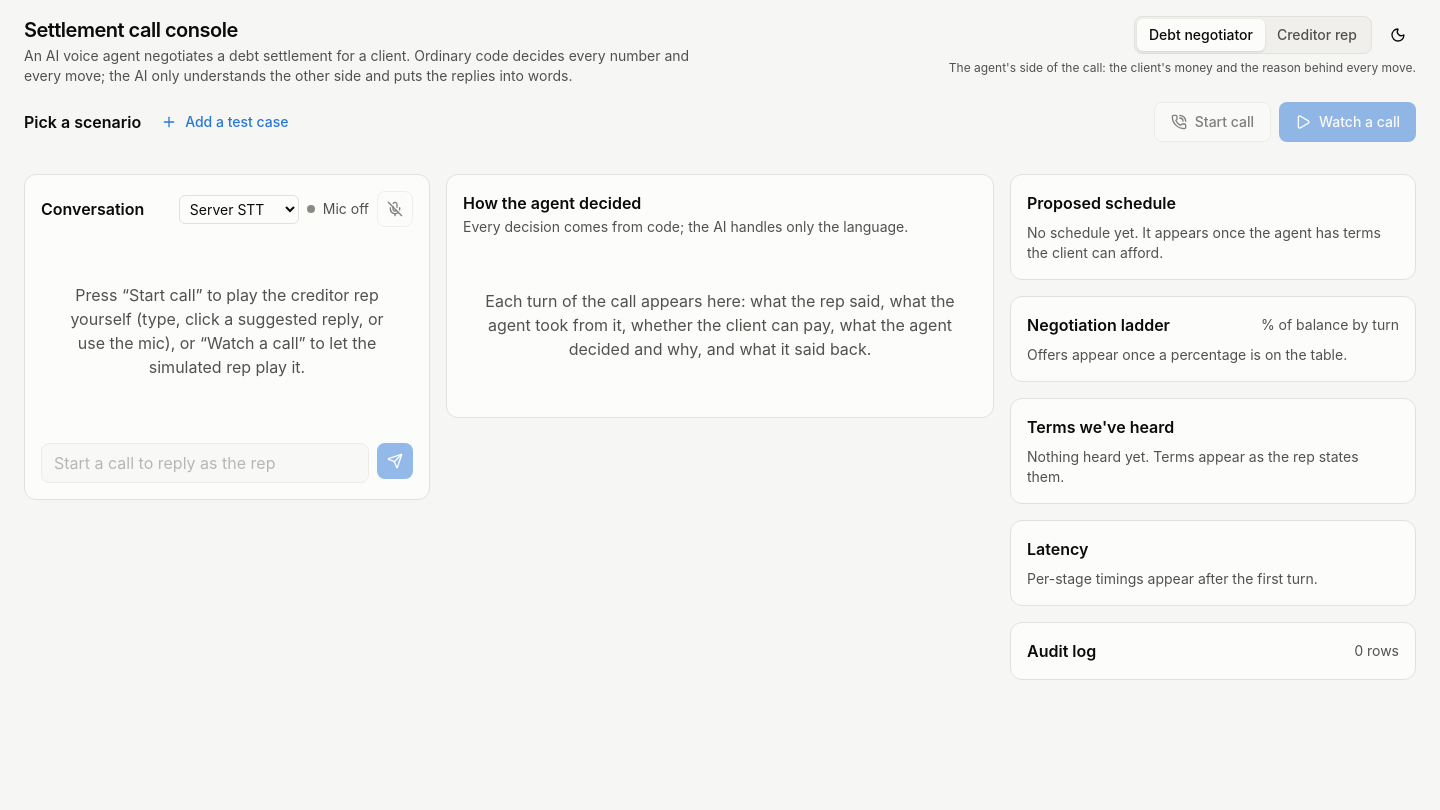
Test: LiveApp view names and Debt negotiator view › names the views in plain words with a one-line subtitle
Expected: the element named "View" is shown, [1134,16,1372,54]
Expected: the text with test id "view-hint" shows "client's money", [949,60,1416,75]
Click the radio button labelled "Creditor rep".
click(1317, 35)  # box [1265,19,1369,51]
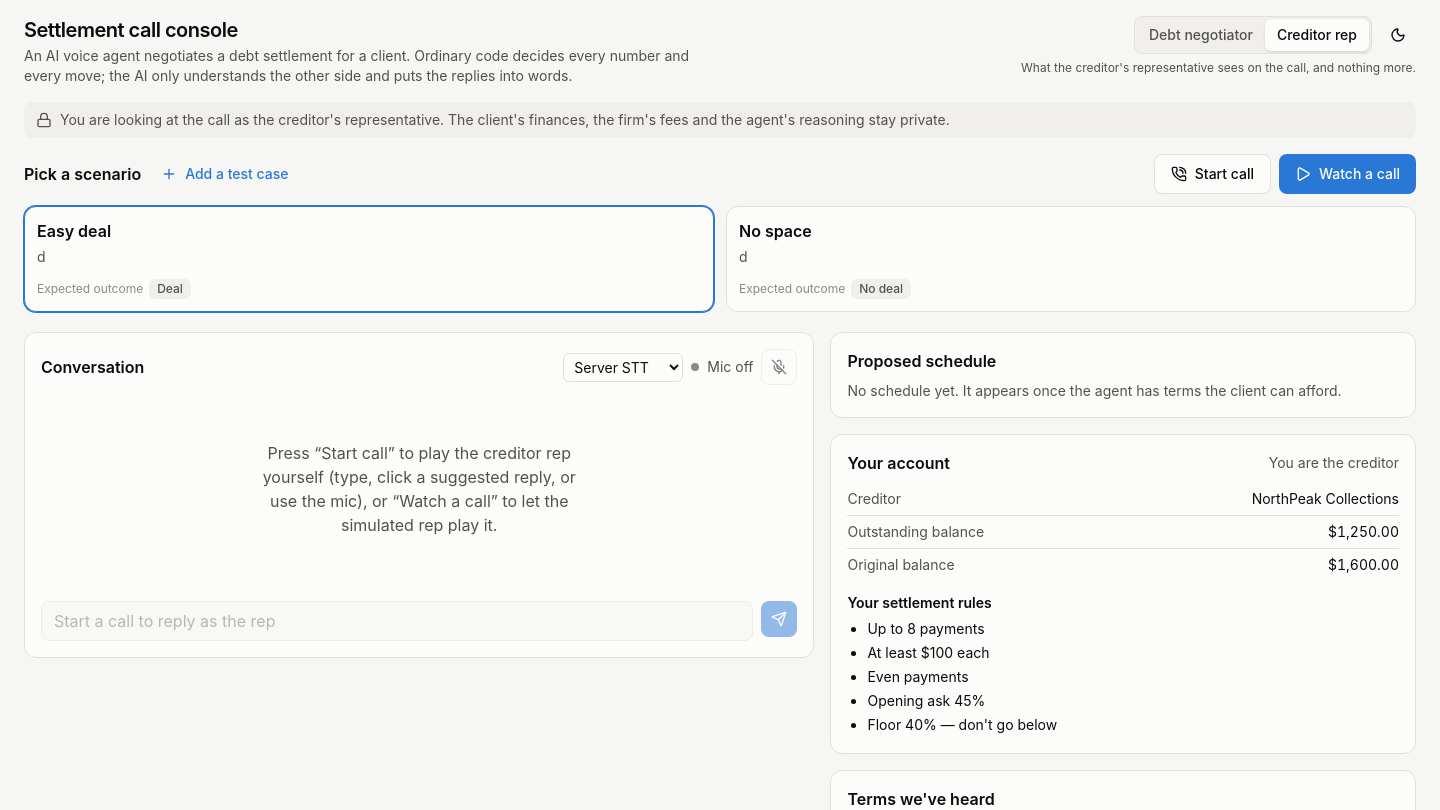
Expected: the text with test id "view-hint" shows "creditor's representative", [1021,60,1416,75]
